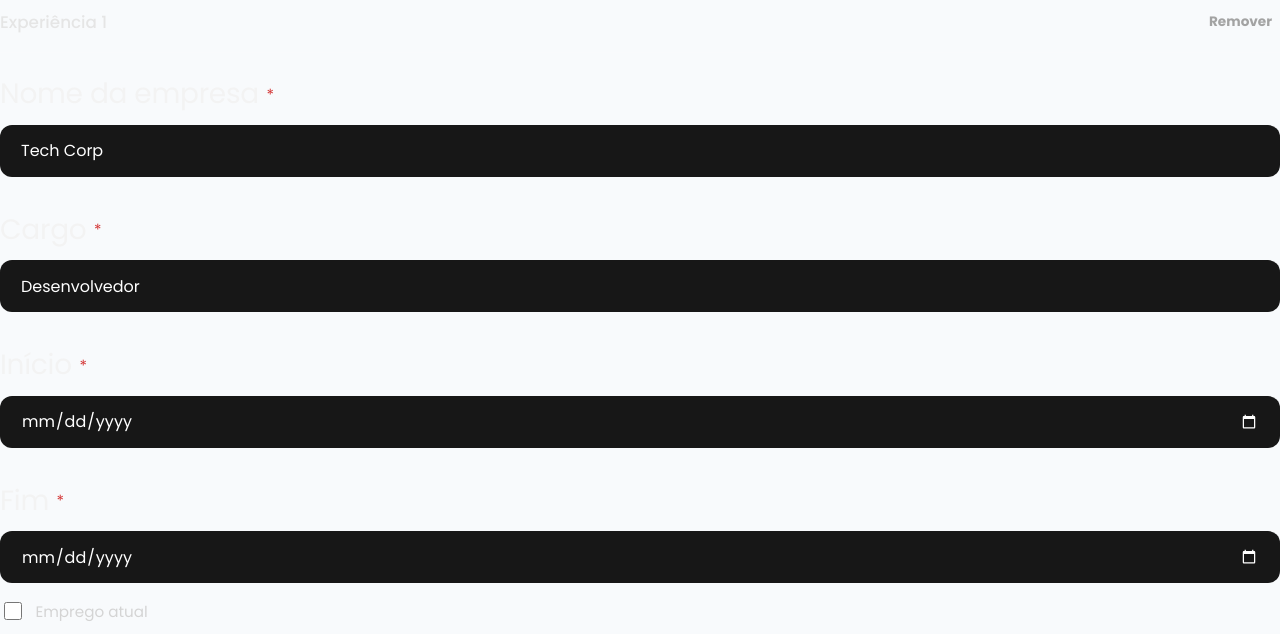
Test: FormularioExperiencias › remove uma entrada ao clicar no botão de remoção
Step 1. Click the button with aria-label "Remover experiência 1" → (1240, 22), box [1201,0,1279,44]
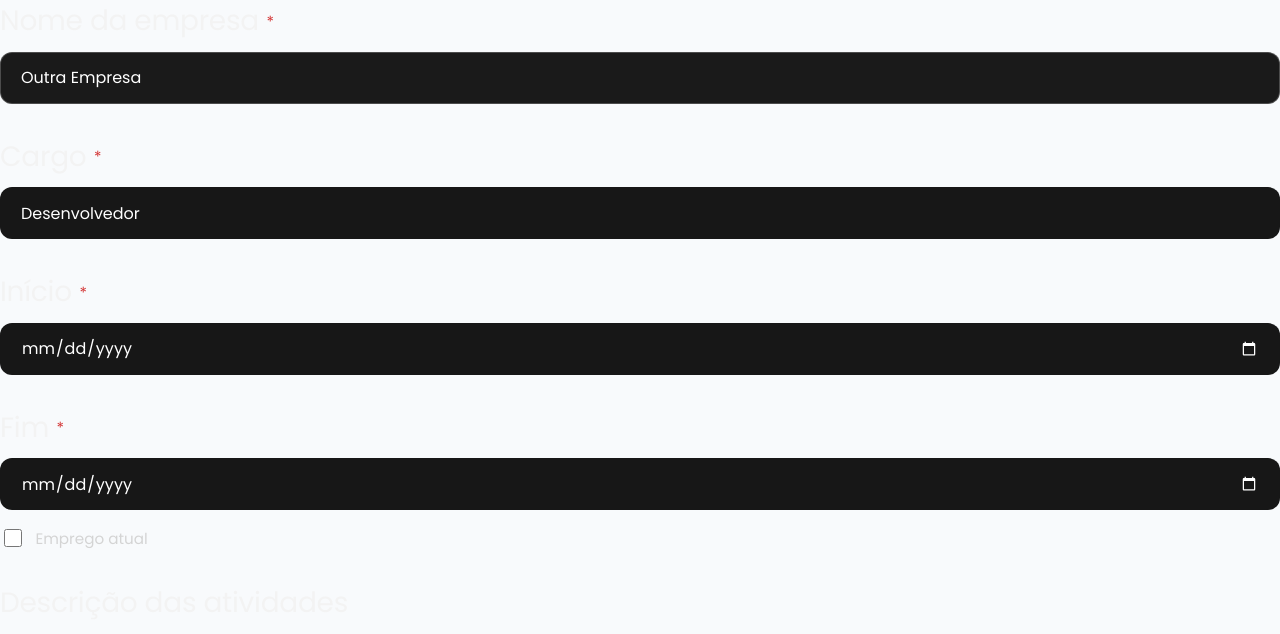
expect the number of fields labelled "Nome da empresa" is 1: met, box [0,52,1279,104]
expect the field labelled "Nome da empresa" holds "Outra Empresa": met, box [0,52,1279,104]
